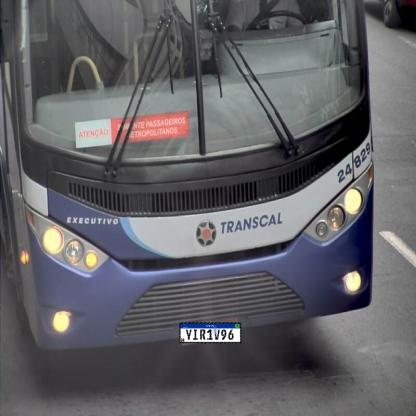PlacaM: (180, 323, 242, 344)
